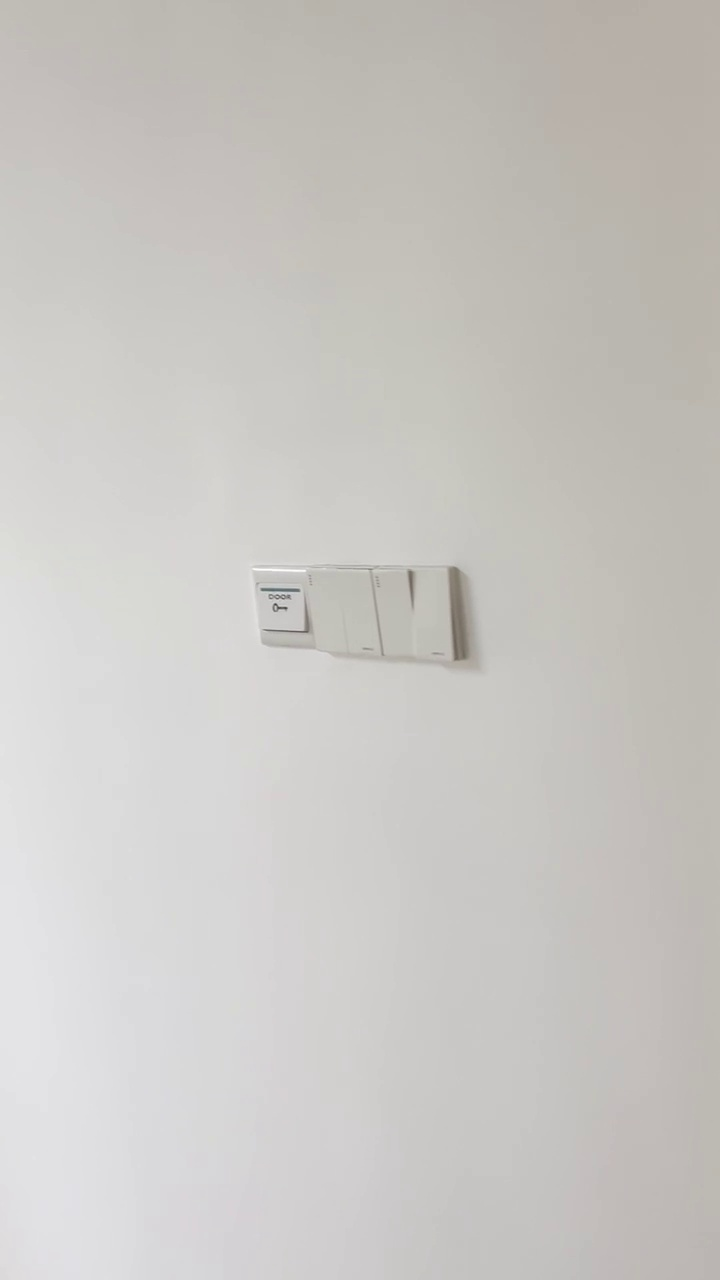button: (374, 563, 469, 661), (307, 564, 385, 654)
